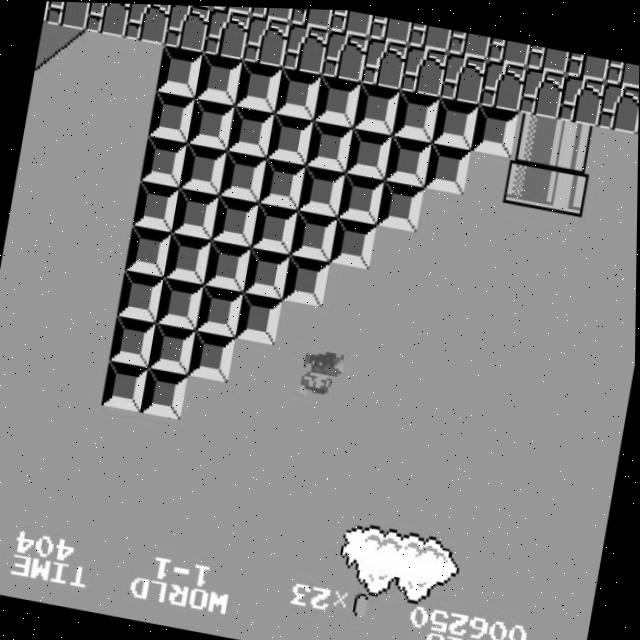11- little_mario: (299, 346, 350, 402)
14- pipe: (510, 109, 559, 162), (550, 116, 598, 169)
15- pipe_head: (542, 161, 591, 214), (503, 154, 551, 207)
17- undestructible_block: (557, 70, 606, 124), (478, 56, 527, 109), (439, 49, 488, 102), (360, 35, 409, 88), (281, 21, 330, 74), (202, 6, 251, 59), (321, 27, 369, 81), (518, 64, 566, 117), (400, 42, 448, 95), (242, 13, 290, 66), (162, 4, 211, 52), (597, 78, 639, 131), (124, 3, 172, 45), (84, 2, 132, 37), (45, 1, 93, 30), (565, 49, 610, 79), (486, 34, 531, 64), (526, 42, 570, 72), (447, 27, 491, 57), (408, 20, 452, 50), (368, 13, 412, 43), (329, 8, 373, 36), (604, 56, 640, 86), (289, 7, 333, 29), (250, 6, 294, 21), (210, 5, 254, 14), (43, 1, 53, 23)
9- hard_block: (211, 193, 260, 247), (234, 58, 283, 112), (431, 95, 480, 148), (384, 132, 433, 185), (392, 87, 441, 140), (329, 215, 378, 268), (337, 170, 386, 223), (345, 125, 394, 178), (290, 208, 339, 261), (313, 73, 362, 126), (235, 291, 284, 344), (266, 111, 315, 164), (188, 328, 237, 381), (156, 276, 205, 329), (187, 96, 236, 149), (109, 314, 158, 367), (132, 179, 181, 232), (148, 89, 197, 142), (155, 44, 204, 97), (471, 101, 519, 155), (424, 139, 472, 193), (251, 200, 299, 254), (376, 178, 425, 230), (243, 246, 292, 298), (258, 156, 307, 208), (141, 367, 190, 419), (164, 232, 213, 284), (179, 142, 228, 194), (353, 80, 401, 133), (298, 163, 346, 216), (306, 118, 354, 171), (274, 66, 322, 119), (196, 283, 244, 336), (227, 103, 275, 156), (149, 321, 197, 374), (172, 186, 220, 239), (195, 52, 243, 105), (102, 359, 150, 412), (117, 269, 165, 322), (283, 254, 331, 306), (204, 239, 252, 291), (219, 149, 267, 201), (125, 225, 173, 277), (140, 135, 188, 187)
